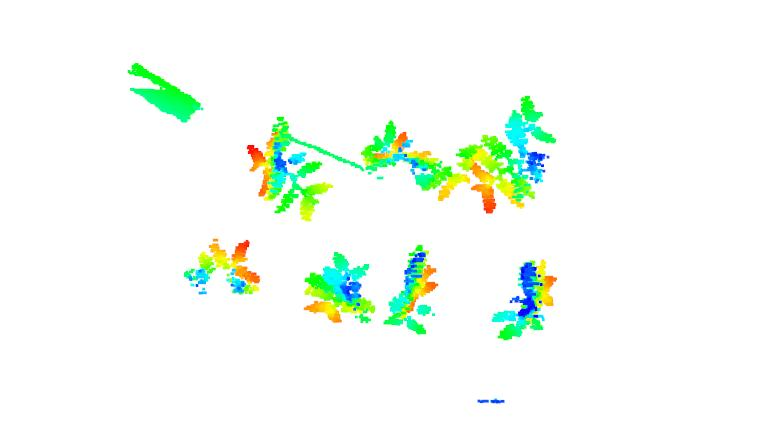chickpea: (453, 92, 557, 214), (246, 116, 332, 222), (379, 241, 446, 339), (490, 251, 557, 339), (301, 251, 378, 325), (181, 236, 265, 298), (357, 120, 433, 170), (409, 158, 468, 203)
